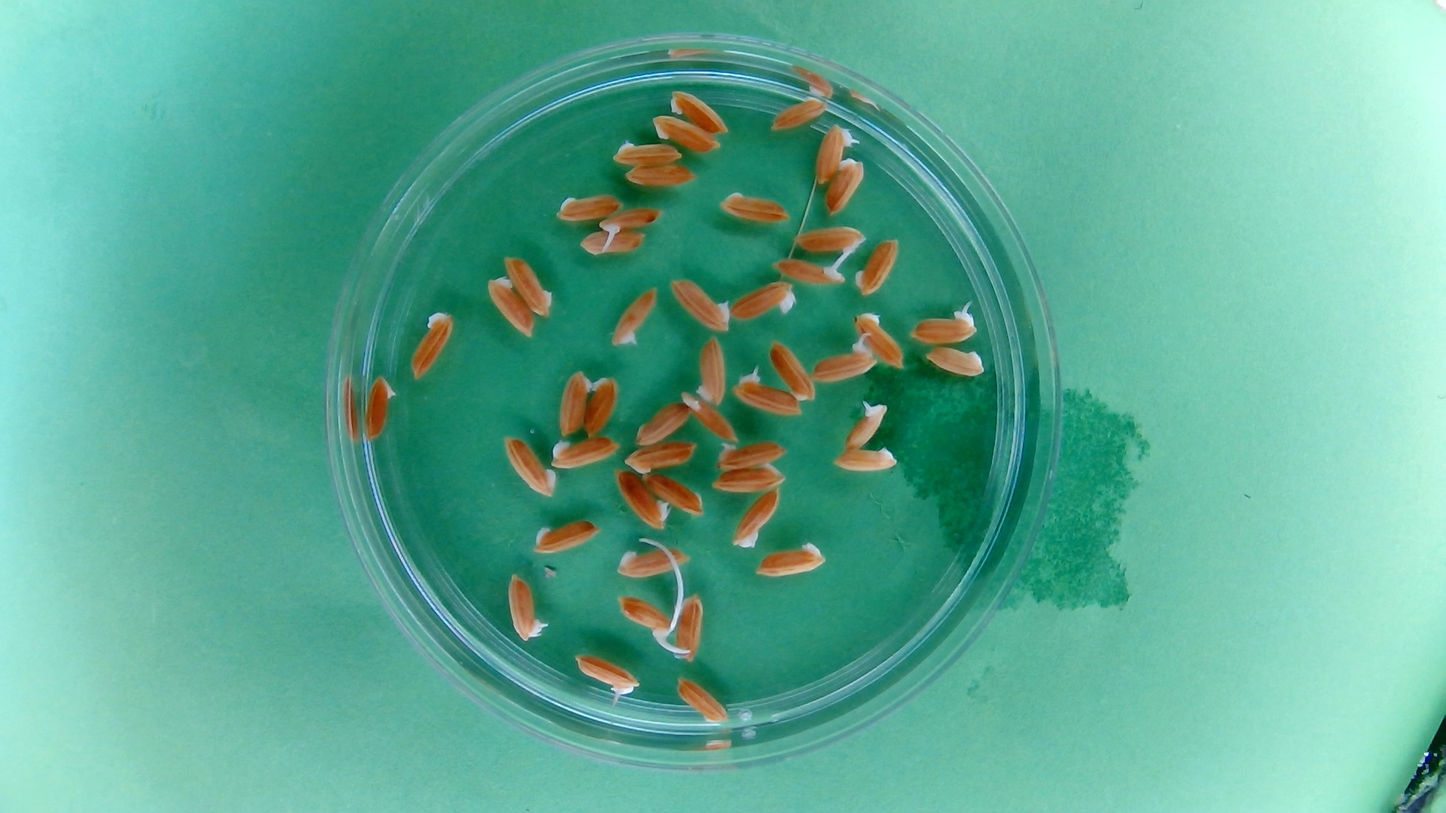no: (667, 274, 733, 333), (613, 468, 670, 531), (408, 307, 456, 381), (502, 434, 557, 498), (484, 273, 535, 341), (853, 309, 908, 372), (504, 253, 555, 320), (665, 84, 731, 134), (767, 337, 817, 403), (610, 284, 660, 349), (648, 113, 722, 156), (731, 489, 782, 550), (716, 187, 793, 227), (681, 391, 740, 443), (728, 279, 798, 322), (853, 236, 901, 298), (642, 470, 704, 517), (764, 92, 829, 136), (632, 399, 692, 446), (824, 156, 868, 219), (674, 676, 729, 726), (615, 544, 690, 580), (362, 373, 399, 445), (548, 434, 621, 470), (757, 542, 826, 580), (575, 654, 637, 696), (622, 440, 697, 474), (582, 372, 621, 437), (555, 368, 592, 436), (607, 137, 685, 169), (551, 190, 624, 224), (531, 519, 598, 556), (694, 335, 728, 406), (920, 344, 988, 379), (714, 438, 787, 470), (621, 162, 700, 191), (830, 444, 899, 475), (578, 227, 649, 257), (712, 466, 785, 495), (673, 593, 704, 659), (798, 224, 865, 249)
yes: (731, 371, 802, 417), (812, 123, 856, 187), (505, 573, 545, 642), (810, 342, 877, 383), (908, 308, 978, 347), (618, 594, 677, 640), (771, 253, 847, 287), (841, 398, 888, 452), (597, 205, 664, 238)
